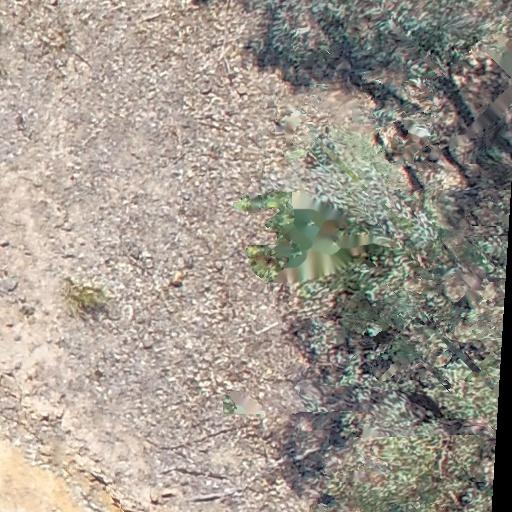stone: (124, 252, 152, 276), (16, 296, 42, 317), (166, 269, 188, 289), (88, 470, 112, 488), (4, 277, 20, 293), (272, 121, 288, 134), (149, 490, 163, 504), (14, 113, 25, 129), (91, 368, 103, 381), (235, 88, 248, 100), (38, 412, 50, 424), (158, 492, 176, 500), (200, 85, 212, 96), (5, 318, 15, 328), (14, 359, 22, 370), (0, 240, 10, 248)
